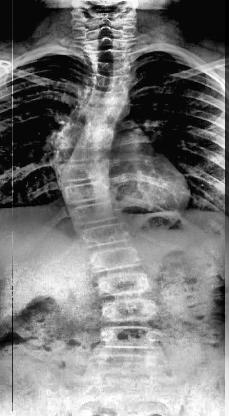Vertebrae: (97, 324, 163, 354), (99, 298, 160, 324), (59, 126, 115, 152), (97, 271, 152, 297), (58, 162, 112, 188), (70, 199, 126, 224), (52, 142, 110, 166), (87, 248, 144, 272), (80, 224, 134, 248), (72, 106, 124, 130), (63, 182, 112, 206), (82, 88, 130, 110), (89, 74, 135, 92), (92, 60, 136, 72), (88, 47, 132, 59), (86, 36, 130, 48)
